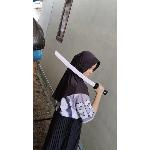Pedang: (53, 48, 109, 99)
